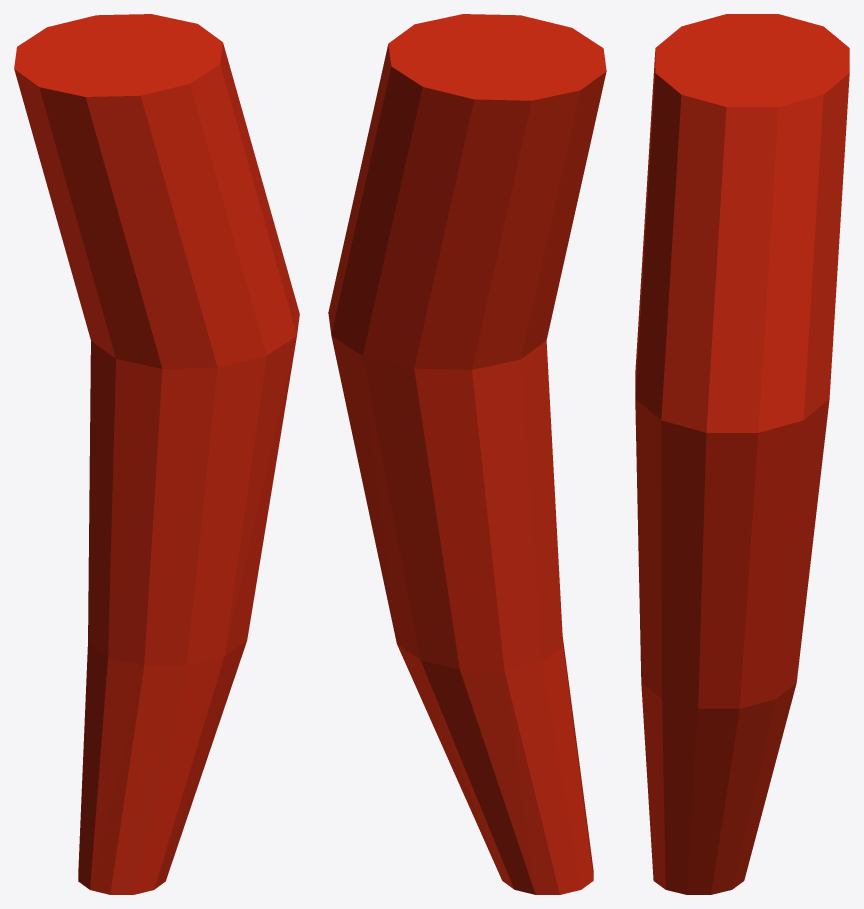
File: HairLock_R.obj
The picture shows the model from 3 angles, left to right: view 1: azimuth 30°, elevation 25°; view 2: azimuth 150°, elevation 25°; view 3: azimuth 270°, elevation 25°; orthographic projection. The views are drawn at different scales.
Visible parts, largest first — view 1: HairLock_R; view 2: HairLock_R; view 3: HairLock_R.
Part boxes in pixels (x1=…): HairLock_R: x1=14, y1=14, x2=299, y2=894; HairLock_R: x1=328, y1=14, x2=606, y2=894; HairLock_R: x1=635, y1=14, x2=849, y2=894.
Size of the model in its own units: 0.2242 by 0.68 by 0.1599.
